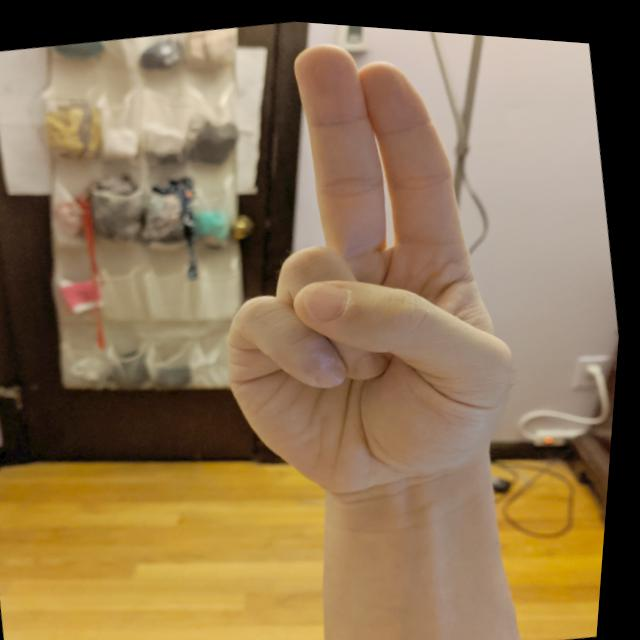U: (159, 11, 566, 523)
